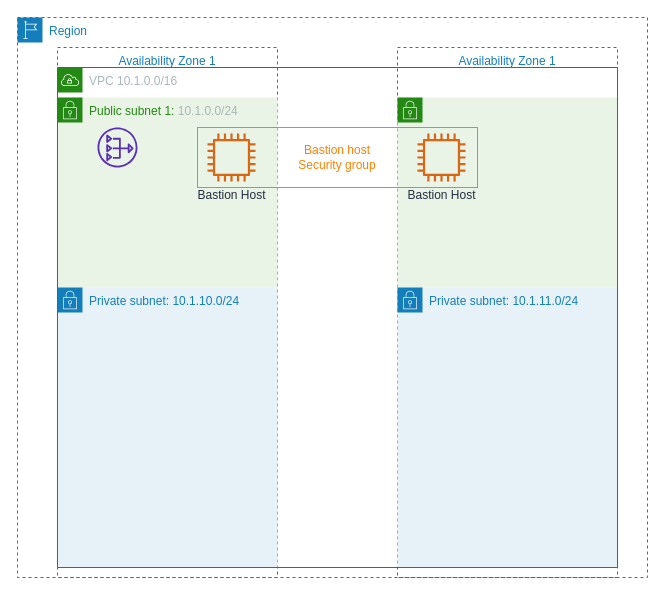
The diagram is 665 pixels wide and 595 high, and some of its shapes have lost their labels. The shapes that lost their labels are listed below. From the top down, each one's centre as x and y in pixels, then its label:
At (x=117, y=147): "NAT gateway".
At (x=507, y=192): "Public subnet 2: 10.1.1.0/24".
